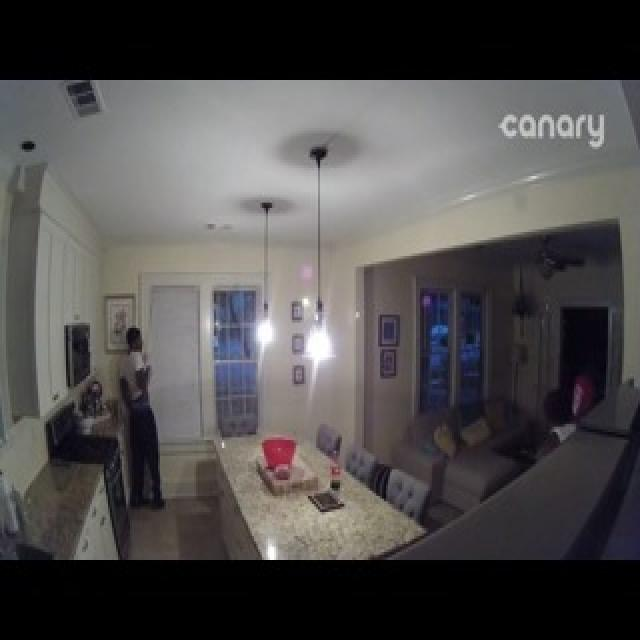thief: (113, 313, 182, 521), (532, 384, 583, 472)
